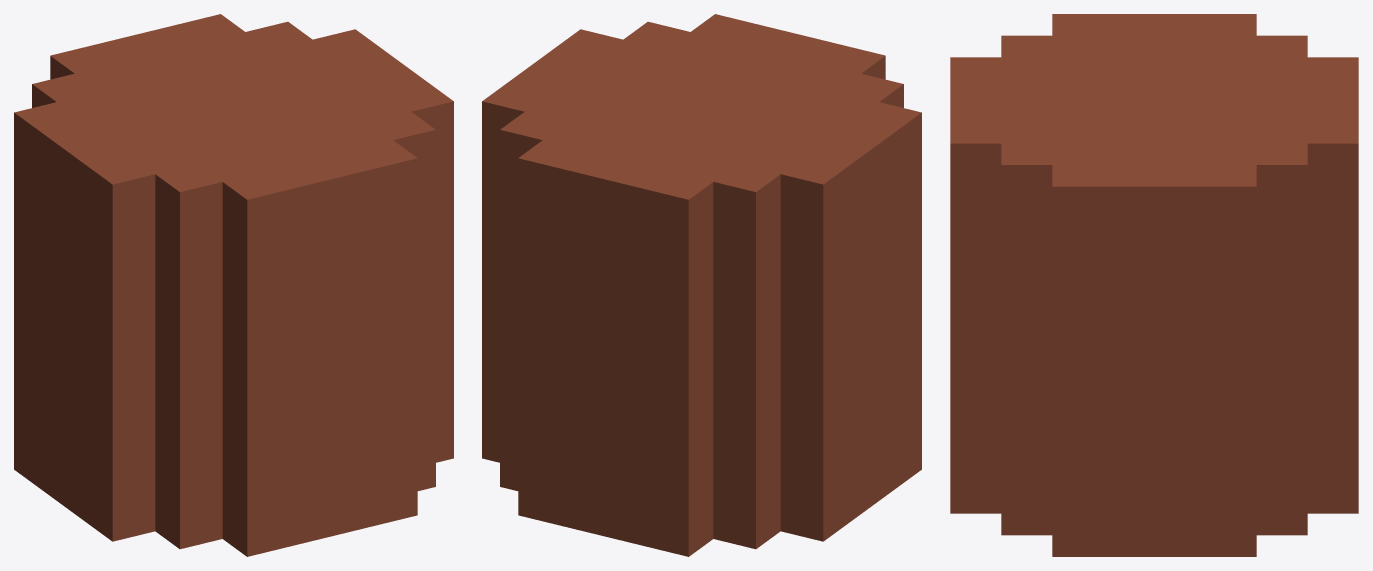
File: dark-brown-trunk-block.obj
The picture shows the model from 3 angles, left to right: view 1: azimuth 30°, elevation 25°; view 2: azimuth 150°, elevation 25°; view 3: azimuth 270°, elevation 25°; orthographic projection. The views are drawn at different scales.
Size of the model in its own units: 8 by 8 by 8.
1 material, 1 textured.
